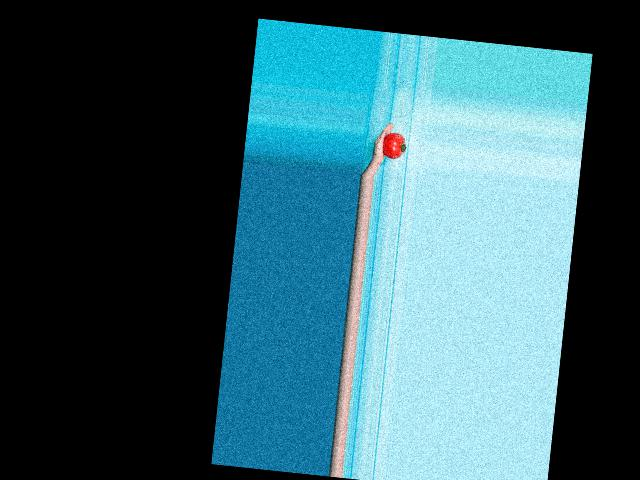tomato: (381, 131, 407, 159)
